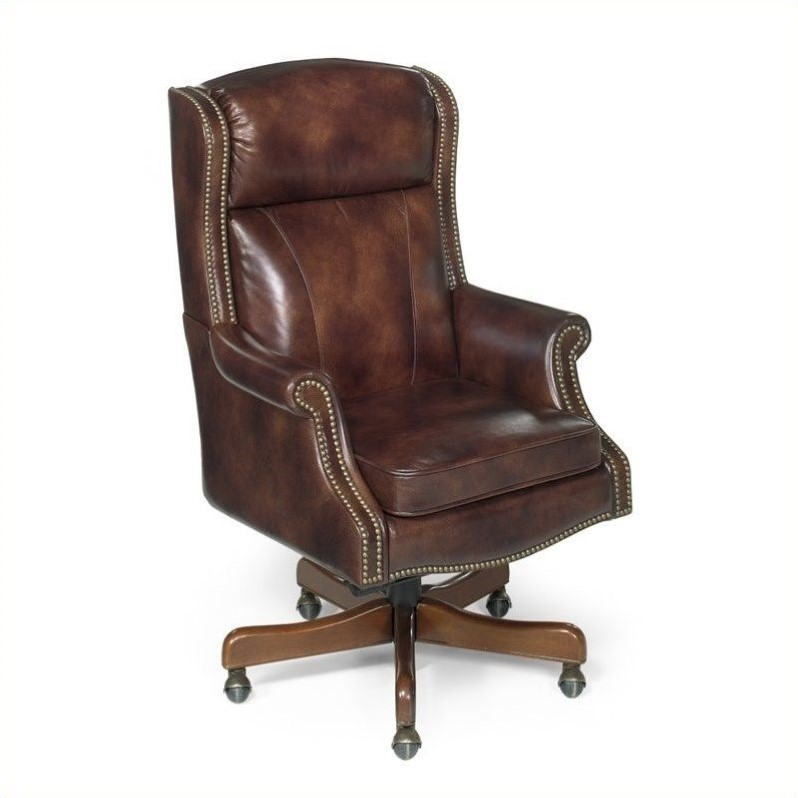chairs: (119, 39, 642, 766)
